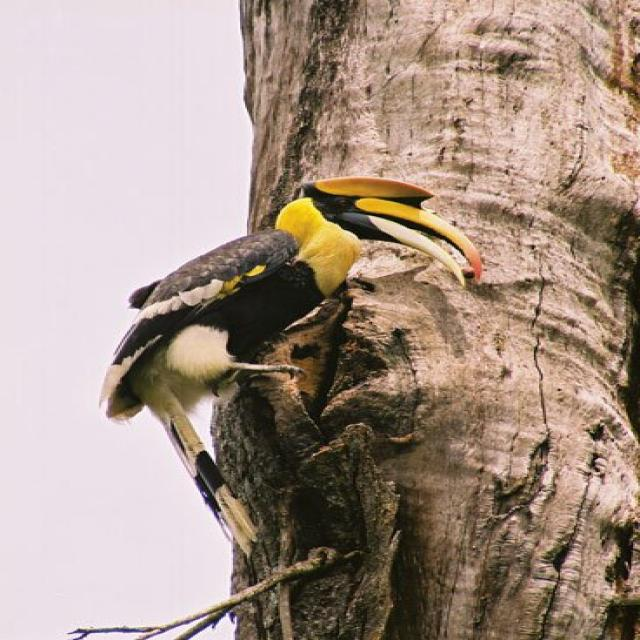Hornbill: (107, 166, 494, 584)
